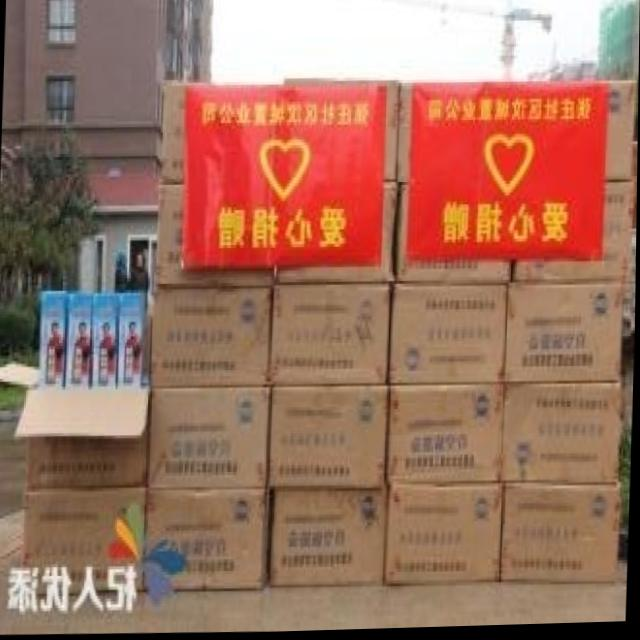box: (20, 489, 146, 597), (19, 388, 150, 489), (149, 386, 273, 491), (501, 485, 624, 589), (144, 491, 273, 589), (506, 282, 625, 387), (388, 282, 507, 387), (157, 182, 273, 289), (513, 180, 630, 286), (150, 286, 274, 386), (274, 282, 392, 386), (278, 181, 395, 285), (270, 386, 390, 487), (503, 386, 625, 485), (269, 487, 391, 586), (388, 485, 506, 587), (388, 387, 505, 485), (395, 186, 509, 286), (606, 82, 637, 183), (38, 290, 70, 387), (90, 290, 121, 385), (118, 291, 145, 388), (65, 290, 92, 387), (160, 84, 185, 183), (396, 86, 413, 186), (382, 84, 397, 181), (625, 145, 638, 235)
